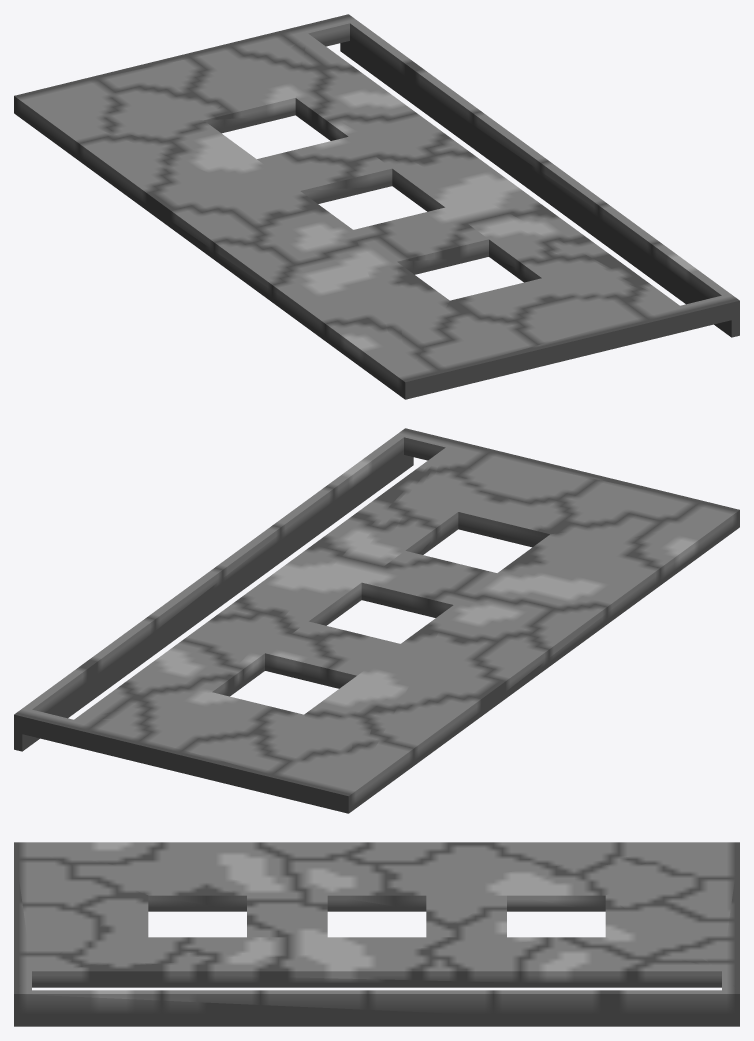
File: FloorForWall.fbx
3 renders of one model, top to bottom at view 1: azimuth 30°, elevation 25°; view 2: azimuth 150°, elevation 25°; view 3: azimuth 270°, elevation 25°, orthographic. The views are drawn at different scales.
Visible parts, largest first — view 1: floorforwall.floorforwall-0; view 2: floorforwall.floorforwall-0; view 3: floorforwall.floorforwall-0.
Part boxes in pixels (bbox=[...]): floorforwall.floorforwall-0: bbox=[14, 14, 739, 399]; floorforwall.floorforwall-0: bbox=[14, 428, 739, 813]; floorforwall.floorforwall-0: bbox=[14, 842, 739, 1026].
Bounding box in the file's own units: 400 × 40 × 810.
